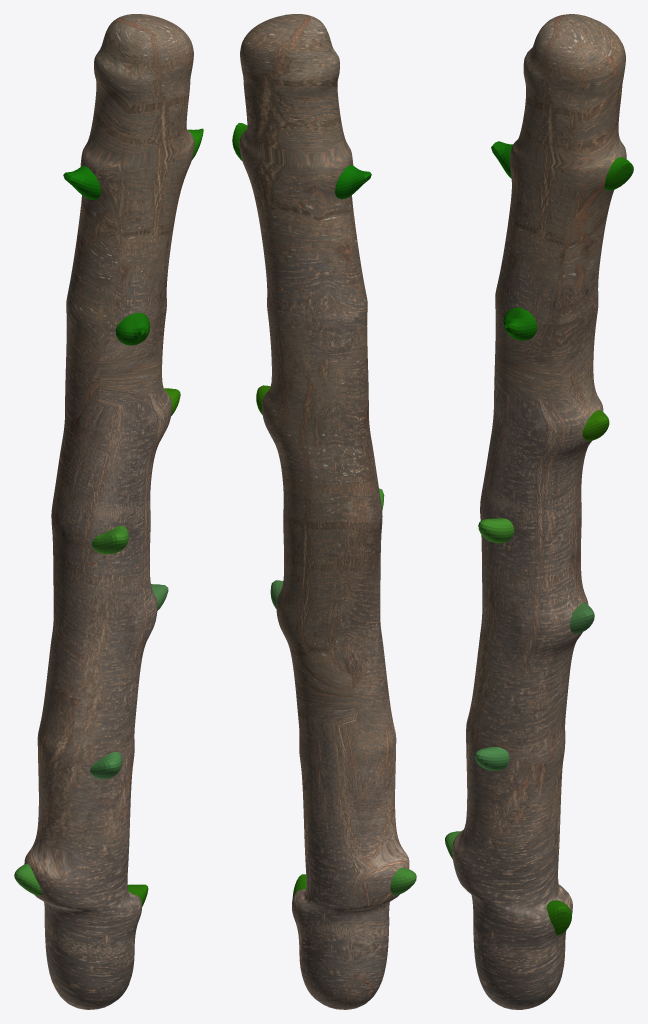
File: casava_seed.glb
3 renders of one model, left to right at view 1: azimuth 30°, elevation 25°; view 2: azimuth 150°, elevation 25°; view 3: azimuth 330°, elevation 25°, orthographic. The views are drawn at different scales.
Visible parts, largest first — view 1: Plane, Sphere.002, Sphere, Sphere.004, Sphere.006, Sphere.007; view 2: Plane, Sphere, Sphere.007; view 3: Plane, Sphere.002, Sphere.004, Sphere.006, Sphere.001, Sphere.008, Sphere.003, Sphere.005, Sphere.
Boxes of the visible parts, bbox=[...] form: Plane: bbox=[24, 14, 194, 1009]; Sphere.002: bbox=[115, 313, 150, 345]; Sphere: bbox=[63, 165, 101, 199]; Sphere.004: bbox=[91, 526, 128, 554]; Sphere.006: bbox=[90, 752, 122, 778]; Sphere.007: bbox=[14, 863, 41, 895]; Plane: bbox=[239, 14, 409, 1009]; Sphere: bbox=[335, 165, 371, 199]; Sphere.007: bbox=[390, 867, 416, 895]; Plane: bbox=[452, 14, 626, 1009]; Sphere.002: bbox=[503, 307, 537, 340]; Sphere.004: bbox=[478, 518, 513, 543]; Sphere.006: bbox=[474, 747, 509, 770]; Sphere.001: bbox=[604, 157, 633, 190]; Sphere.008: bbox=[546, 900, 571, 935]; Sphere.003: bbox=[582, 410, 609, 441]; Sphere.005: bbox=[569, 602, 594, 633]; Sphere: bbox=[491, 141, 512, 178].
Size of the model in its own units: 0.9108 by 4.62 by 0.4772.
10 materials, 1 textured.
